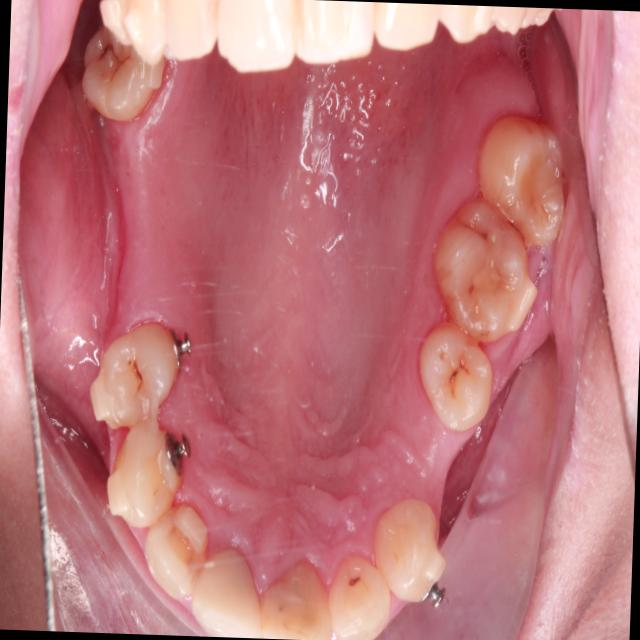tooth: (417, 189, 550, 349), (82, 304, 209, 455), (464, 104, 576, 257), (100, 409, 200, 557), (408, 307, 507, 452), (361, 497, 462, 623), (69, 14, 170, 133), (138, 498, 218, 611), (180, 540, 271, 638), (254, 550, 342, 640), (314, 551, 400, 640)
